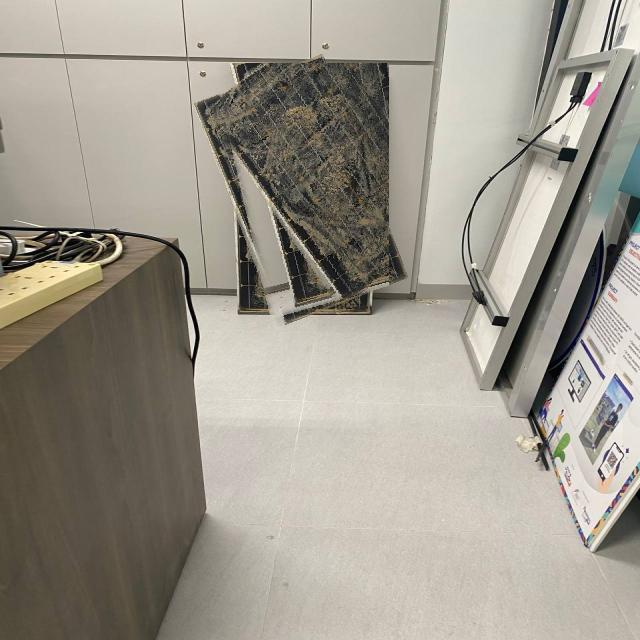Surface Contaminant: (212, 63, 389, 319)
